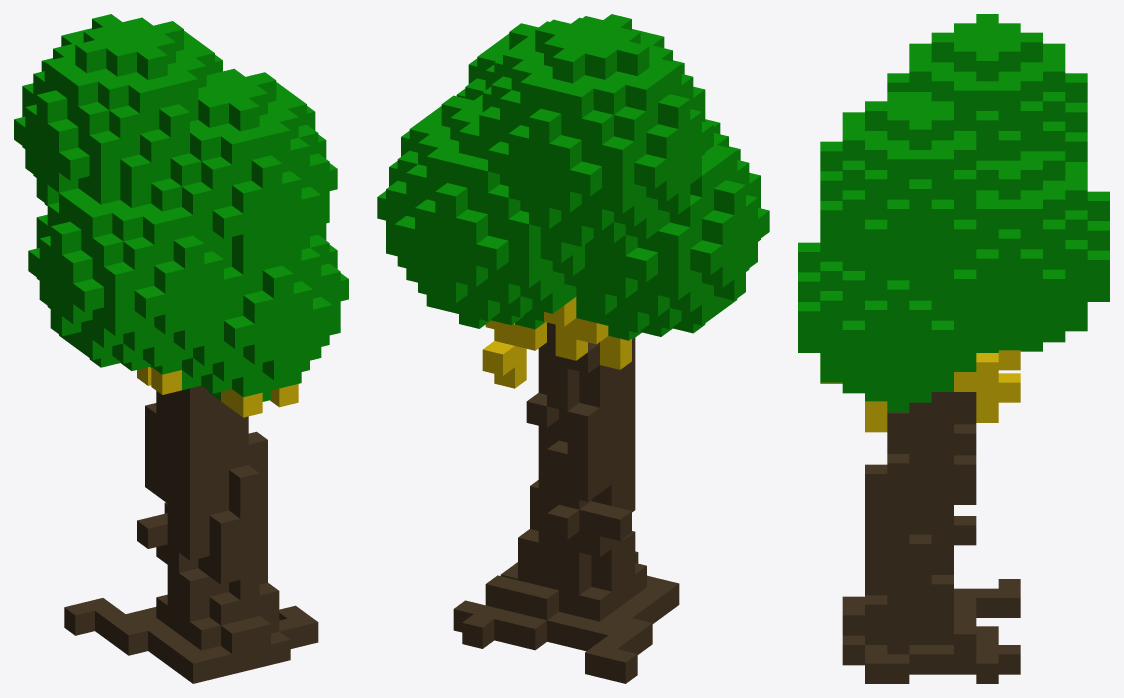
The model's file is center tree4.obj.
3 renders of one model, left to right at view 1: azimuth 30°, elevation 25°; view 2: azimuth 150°, elevation 25°; view 3: azimuth 270°, elevation 25°, orthographic. The views are drawn at different scales.
Size of the model in its own units: 1.4 by 2.9 by 1.4.
1 material, 1 textured.
